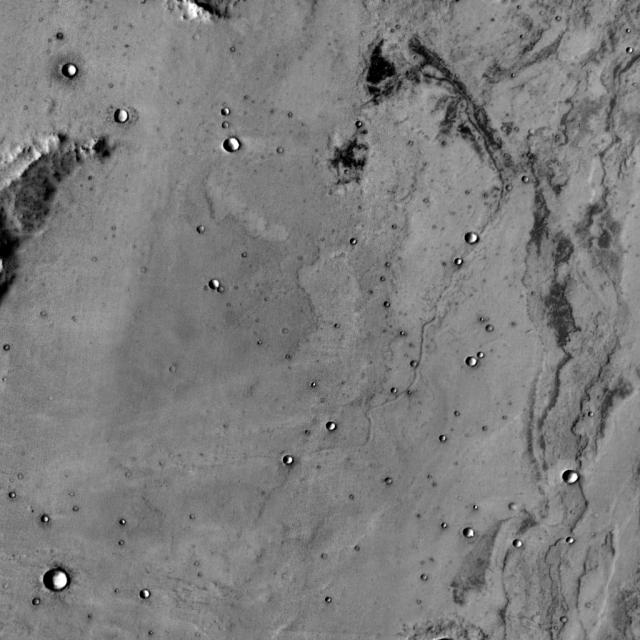crater: (47, 572, 72, 594), (226, 139, 244, 154), (66, 67, 80, 80), (118, 114, 132, 126), (567, 473, 581, 485), (468, 236, 481, 247), (470, 359, 482, 370), (212, 281, 224, 291), (514, 540, 524, 550), (144, 592, 154, 602), (286, 458, 297, 467), (330, 425, 340, 434), (199, 227, 209, 235), (224, 110, 233, 118), (466, 530, 475, 538), (388, 480, 396, 488), (46, 518, 54, 526), (458, 261, 466, 268), (414, 364, 422, 371), (36, 601, 44, 608), (490, 326, 497, 334), (474, 348, 482, 354), (435, 432, 443, 438)
